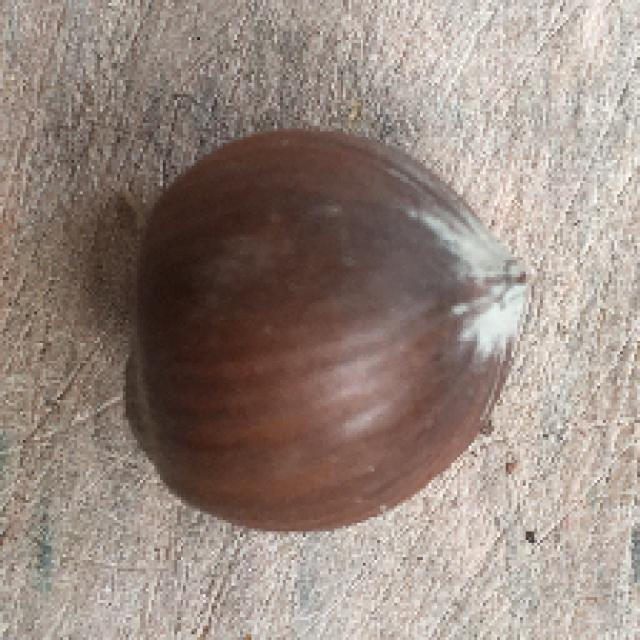qualityHazelnut: (113, 126, 539, 543)
